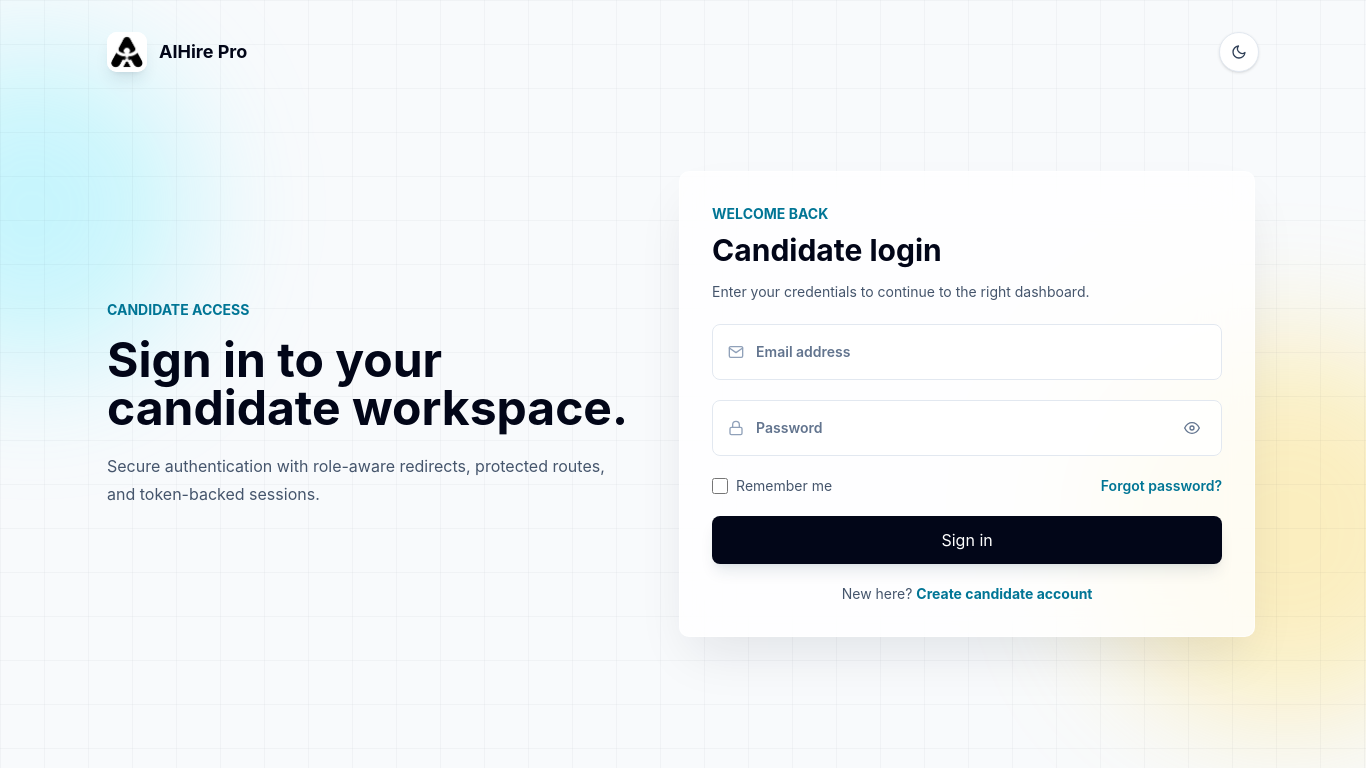
Test case: LoginPage › shows inline validation errors for empty login form
Click the button "Sign in".
click(967, 540)  # box [712, 516, 1222, 564]
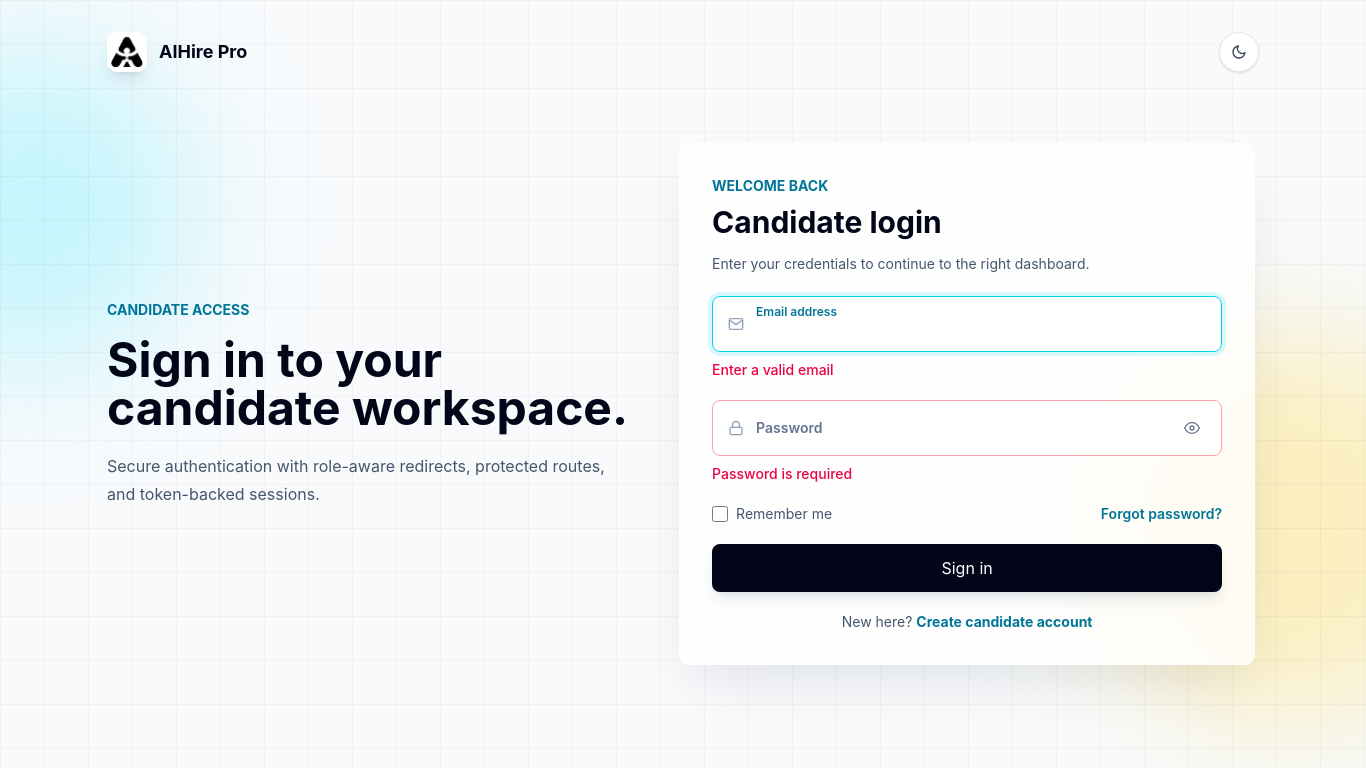
Result: the text "Enter a valid email" is shown at [712, 361, 834, 378]
Result: the text "Password is required" is shown at [712, 465, 852, 482]
